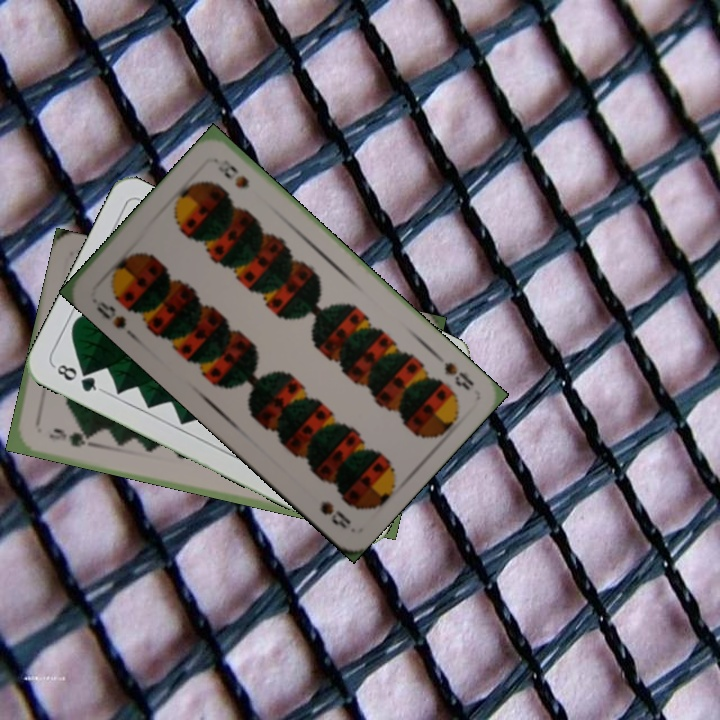G8: (50, 360, 105, 395)
G9: (45, 425, 93, 450)
S8: (430, 349, 477, 394), (91, 296, 129, 332)
